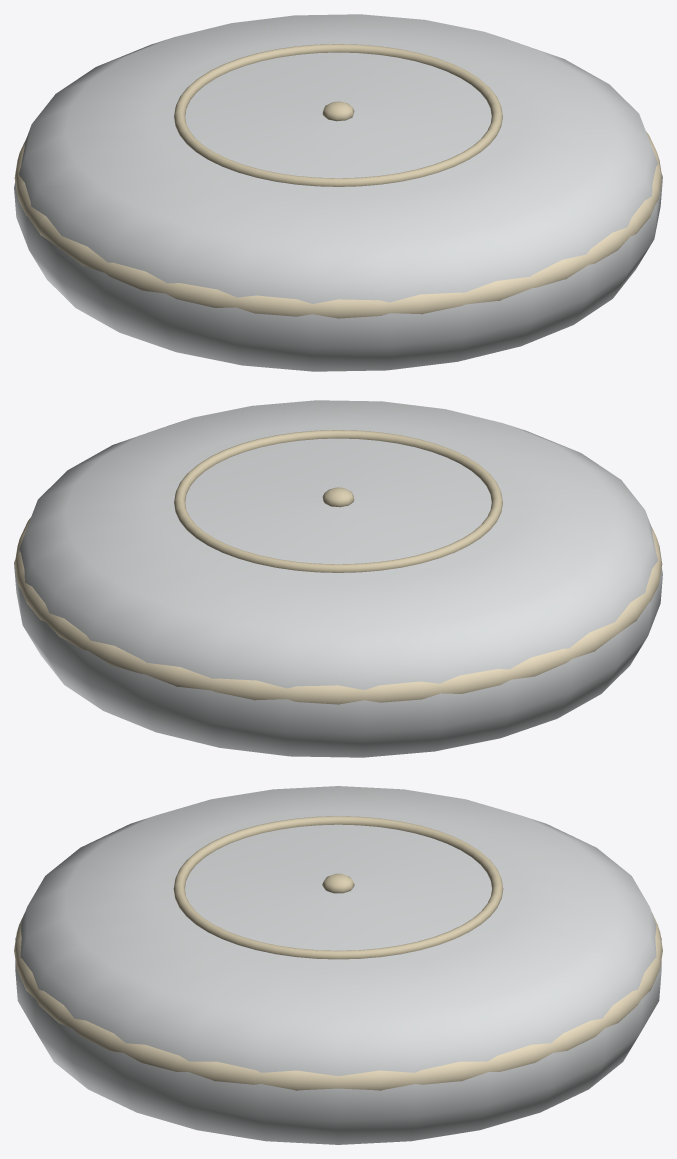
The model's file is cushion.glb.
3 views of the same model, one above another, from view 1: azimuth 30°, elevation 25°; view 2: azimuth 150°, elevation 25°; view 3: azimuth 270°, elevation 25° (orthographic).
Parts seen in each view (by area): view 1: cushion, band, stitch; view 2: cushion, band, stitch; view 3: cushion, band, stitch.
Part boxes in pixels (<box>): cushion: <box>14,14,662,371</box>; band: <box>14,131,662,318</box>; stitch: <box>174,44,502,186</box>; cushion: <box>14,400,662,757</box>; band: <box>14,517,662,704</box>; stitch: <box>174,430,502,572</box>; cushion: <box>15,786,661,1144</box>; band: <box>14,913,662,1090</box>; stitch: <box>173,816,503,959</box>.
Bounding box in the file's own units: 1.39 × 0.366 × 1.39.
